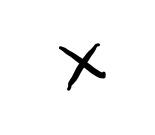mult: (58, 43, 106, 91)
